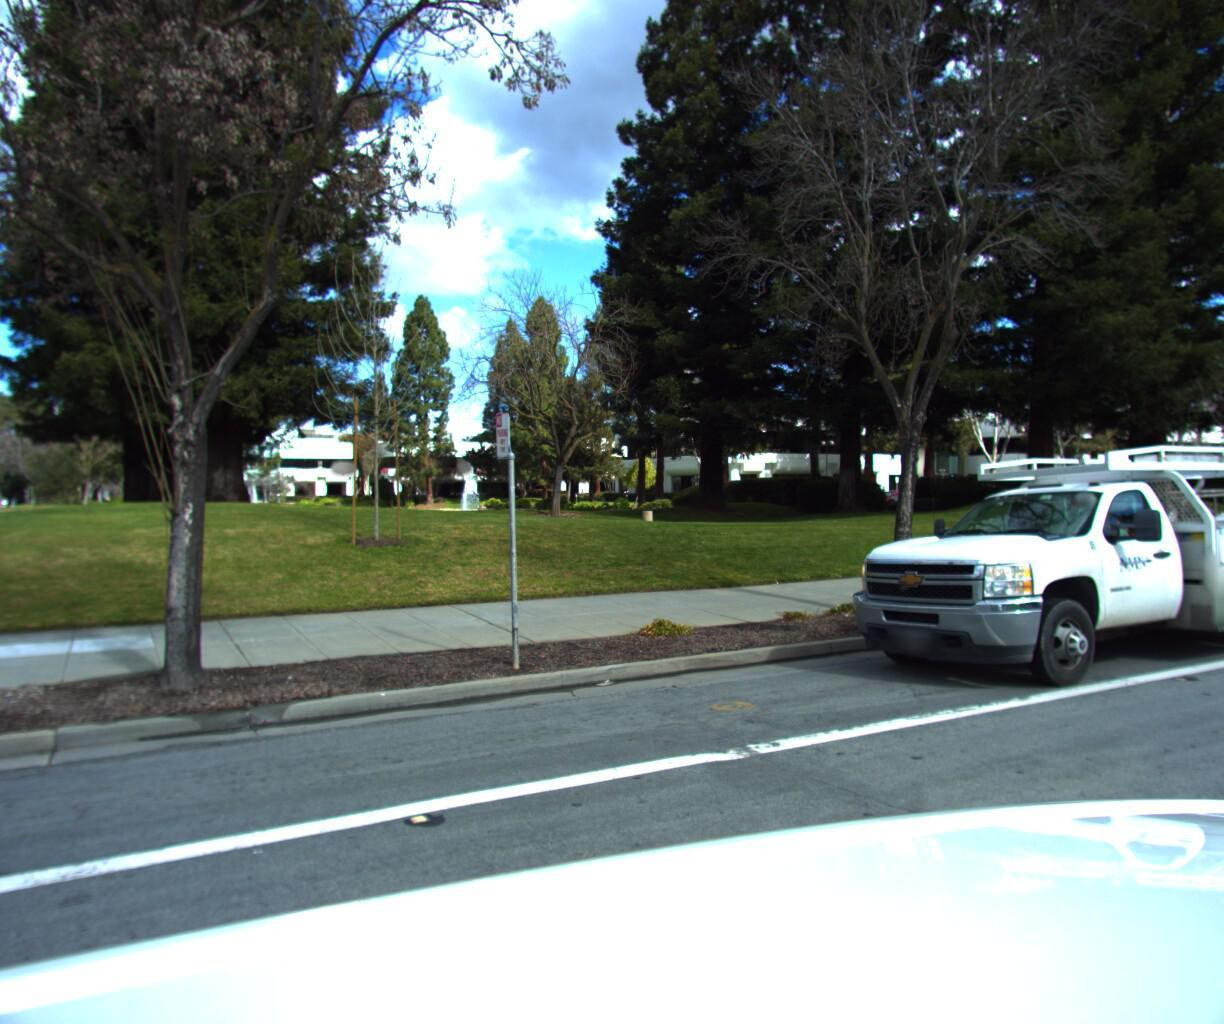truck: (813, 433, 1224, 737)
